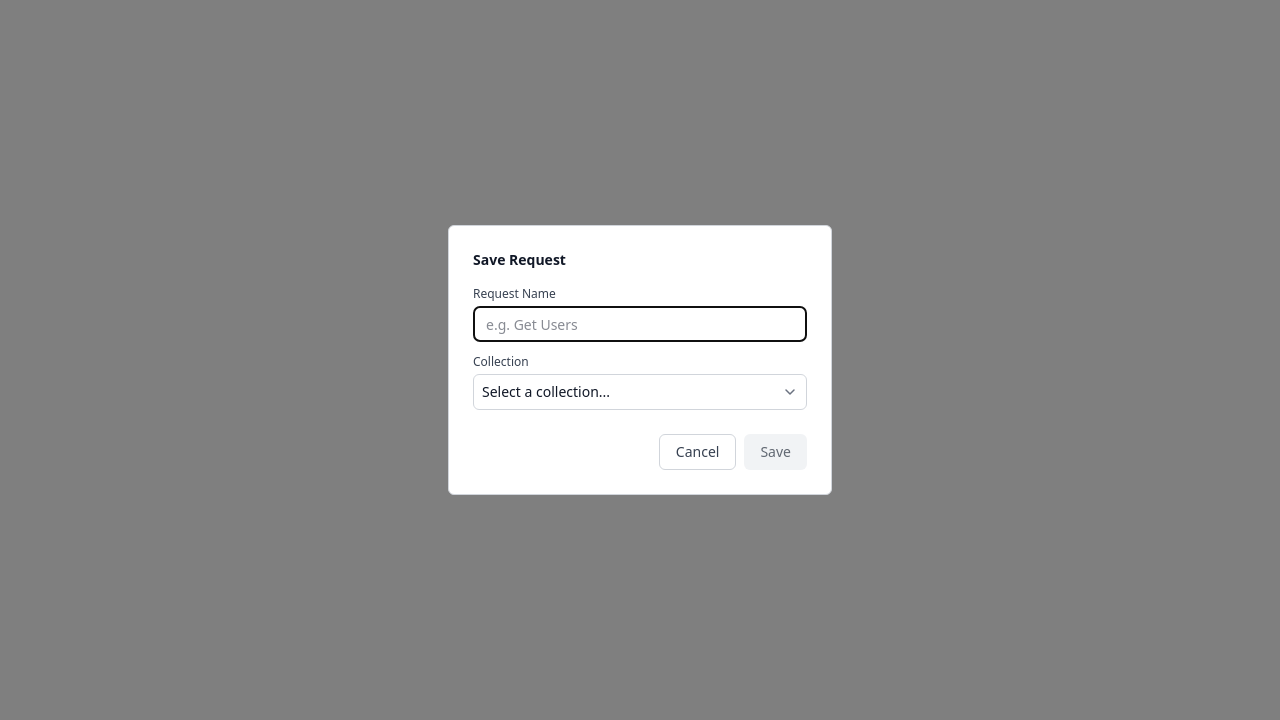
it: SaveRequestDialog › Save button is enabled when name and collection are provided
Type "My Request" into the field labelled "Request Name". click: (640, 324)
box: [473,306,807,342]
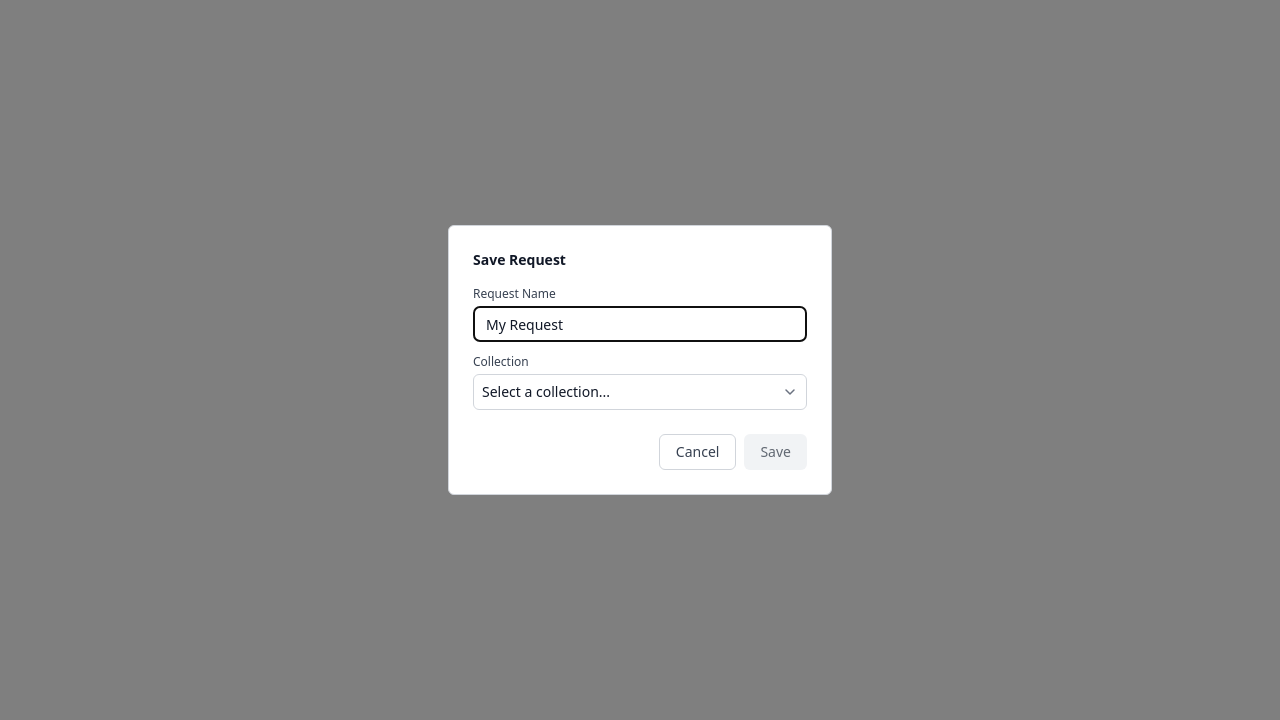
Select "My API" in the dropdown labelled "Collection". click: (640, 392)
box: [473,374,807,410]
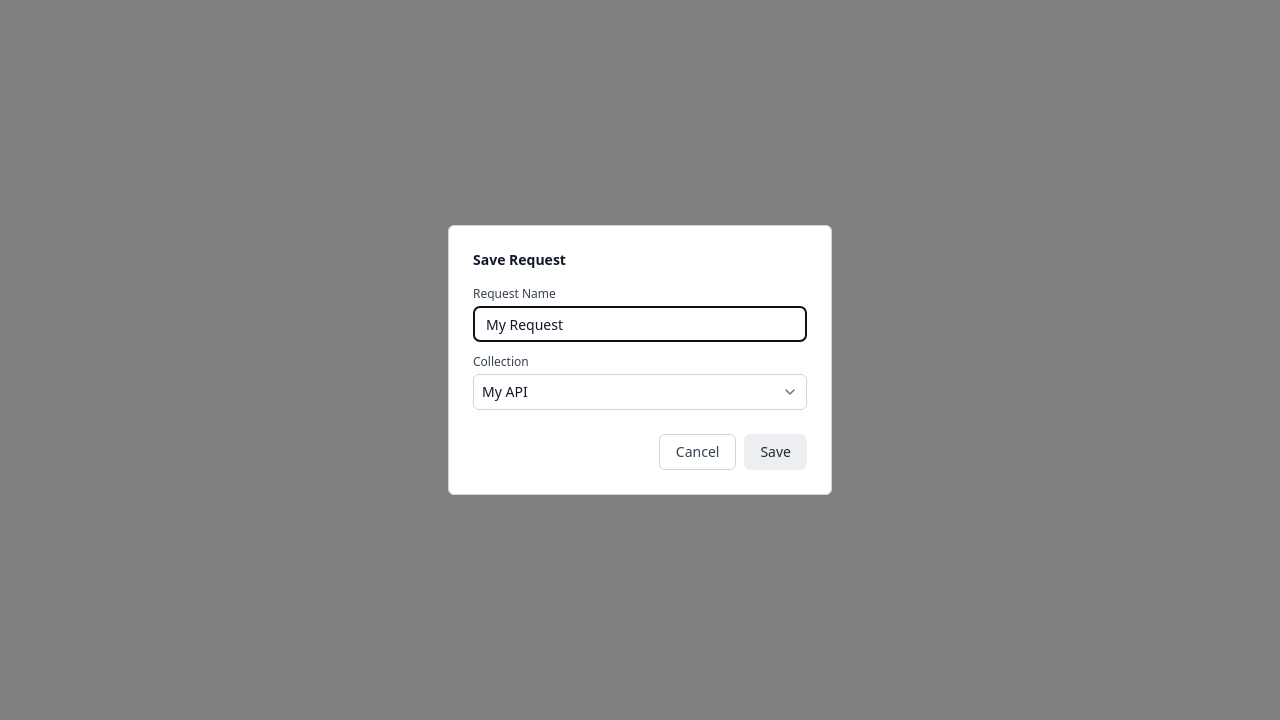
Now the button "Save" is enabled, box [744,434,807,470]
